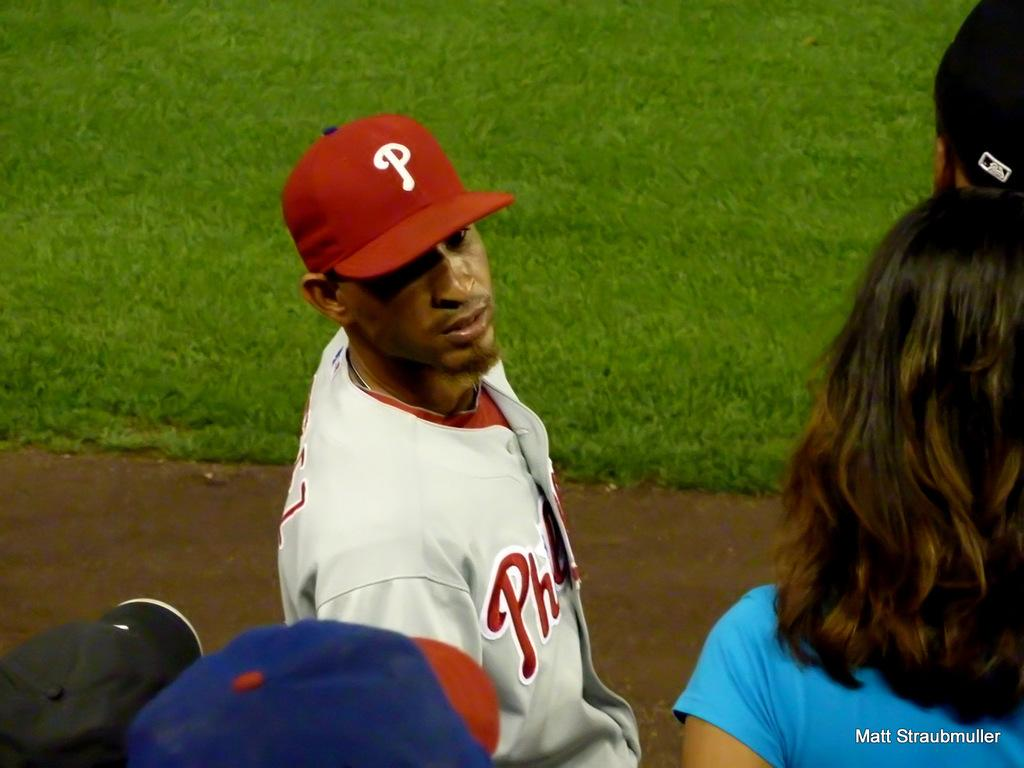Hat: (128, 613, 500, 767), (282, 109, 514, 272), (0, 599, 203, 767), (931, 0, 1023, 198)
